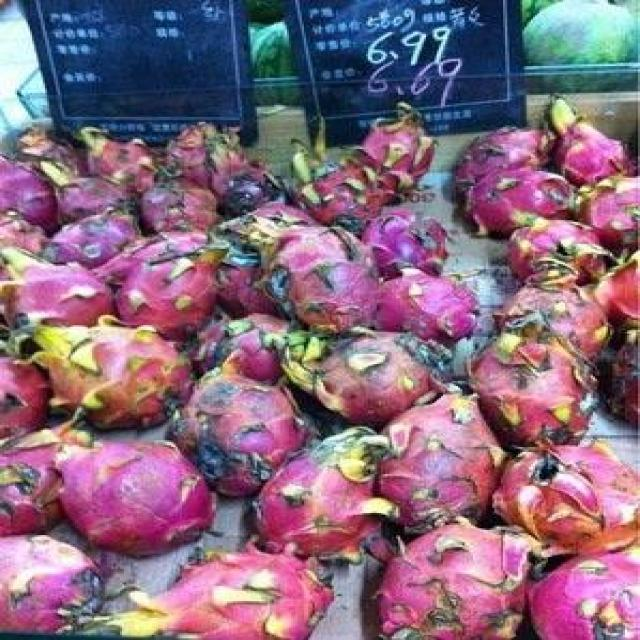Wet Waste: (0, 88, 638, 638)
